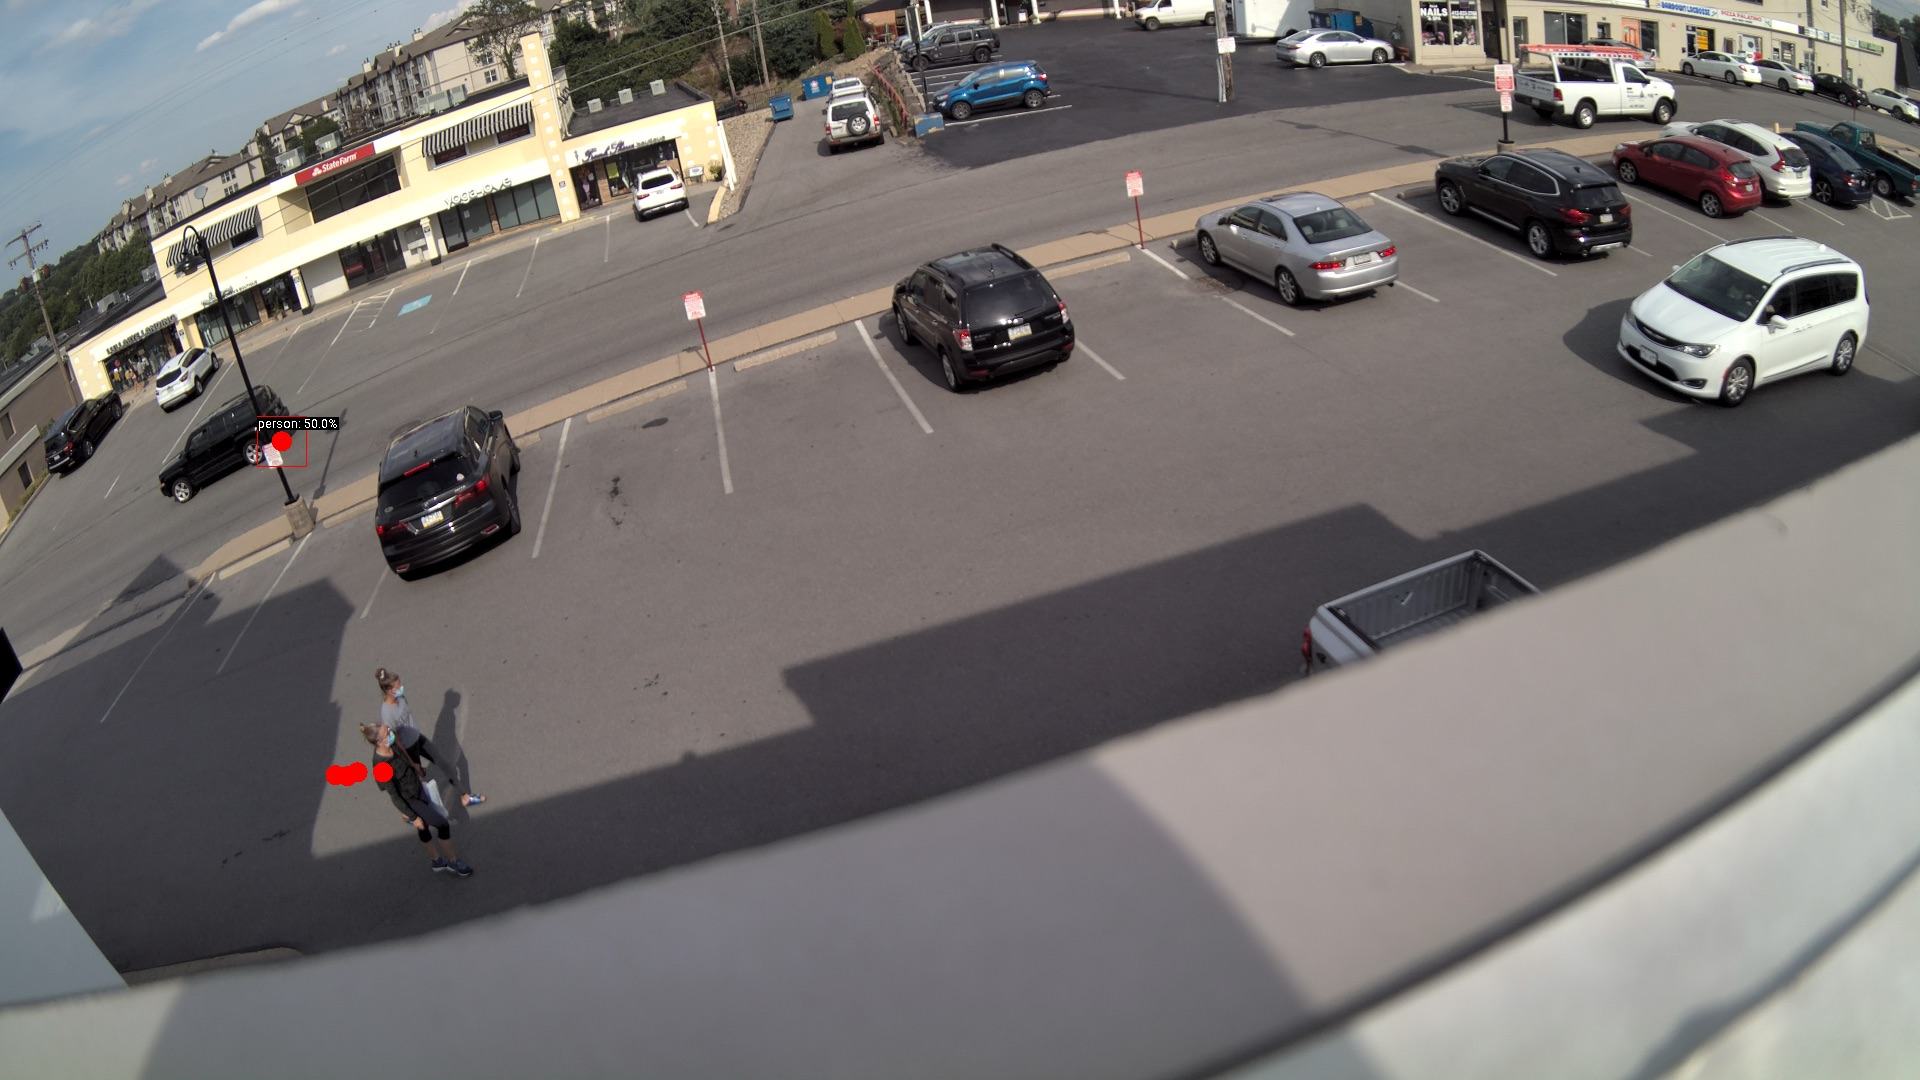person: (358, 720, 467, 881), (373, 675, 480, 814)
